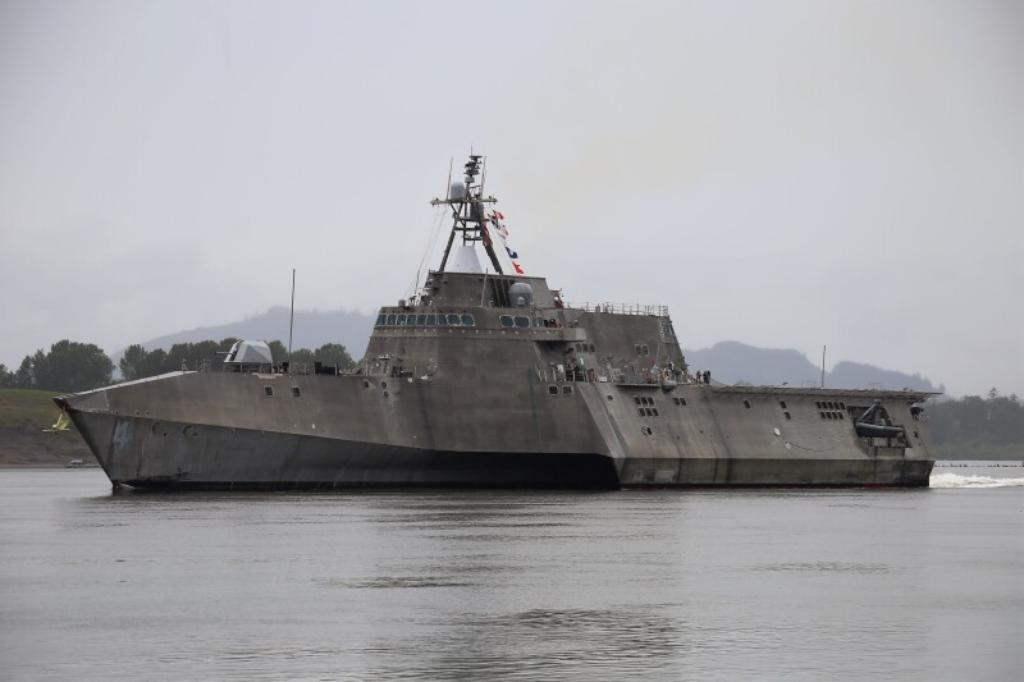Warship: (49, 145, 945, 492)
